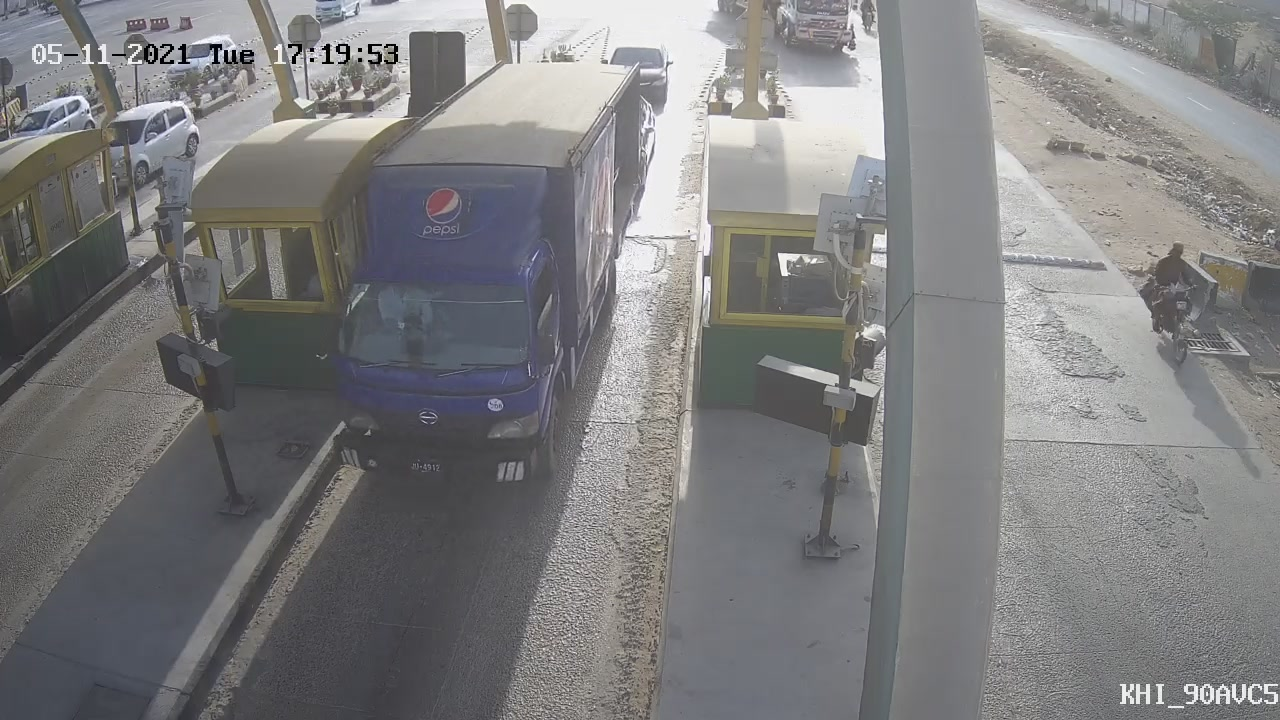F5: (276, 35, 673, 525)
